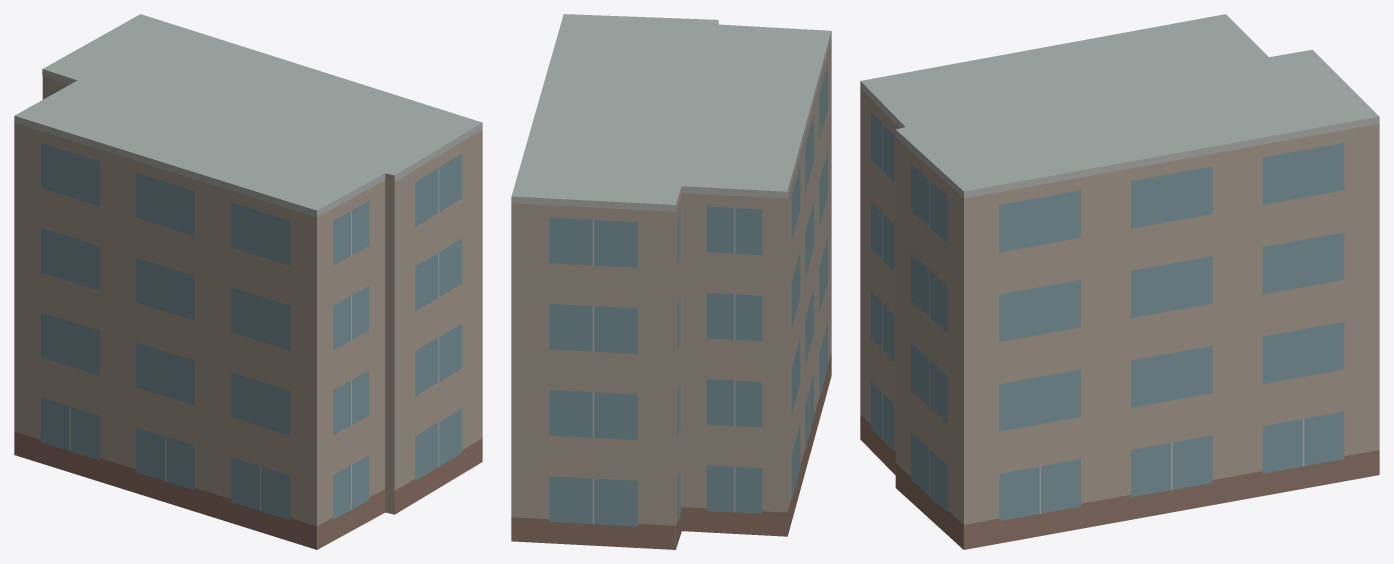
The model's file is survey-upis-32528017.glb.
3 views of the same model, side by side, from view 1: azimuth 30°, elevation 25°; view 2: azimuth 150°, elevation 25°; view 3: azimuth 270°, elevation 25° (orthographic). The views are drawn at different scales.
Parts seen in each view (by area): view 1: survey-upis-32528017.tmp; view 2: survey-upis-32528017.tmp; view 3: survey-upis-32528017.tmp.
Boxes of the visible parts, box(x1,y1,x2,y2) form: survey-upis-32528017.tmp: box(14, 14, 482, 549); survey-upis-32528017.tmp: box(511, 14, 831, 549); survey-upis-32528017.tmp: box(860, 14, 1379, 549).
Size of the model in its own units: 12.97 by 12.2 by 16.03.
